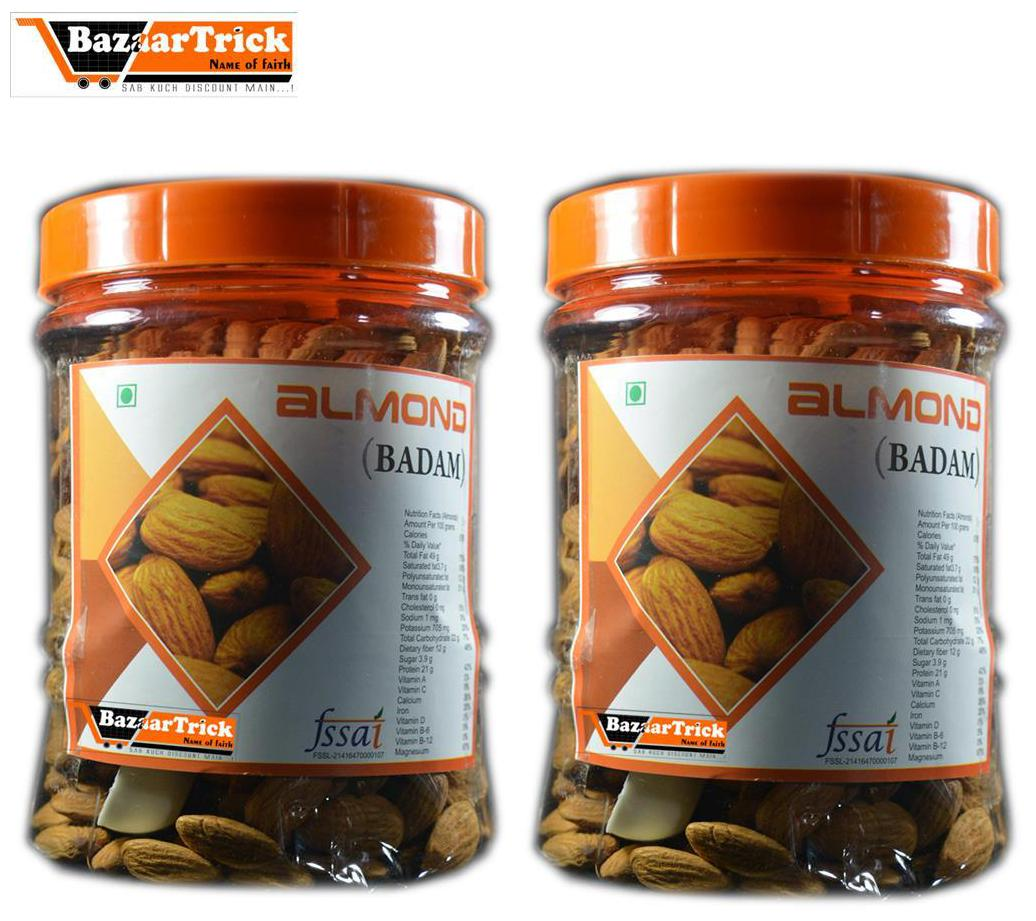JAR: (523, 161, 1018, 902), (18, 166, 506, 892)
